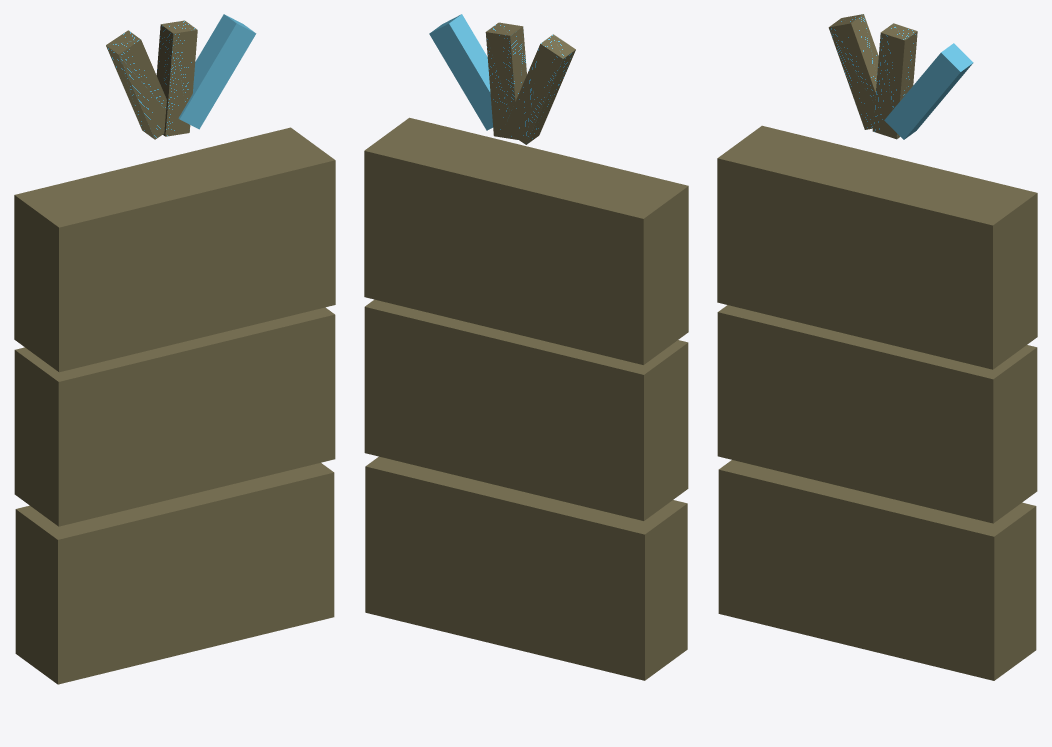
File: kelpsy.obj
3 views of the same model, side by side, from view 1: azimuth 30°, elevation 25°; view 2: azimuth 150°, elevation 25°; view 3: azimuth 330°, elevation 25° (orthographic).
Visible parts, largest first — view 1: Cube.004_Cube.007; view 2: Cube.004_Cube.007; view 3: Cube.004_Cube.007.
Part boxes in pixels (<box>): Cube.004_Cube.007: <box>14,14,335,684</box>; Cube.004_Cube.007: <box>364,14,688,680</box>; Cube.004_Cube.007: <box>717,14,1037,680</box>.
Size of the model in its own units: 0.2731 by 0.6396 by 0.0829.
